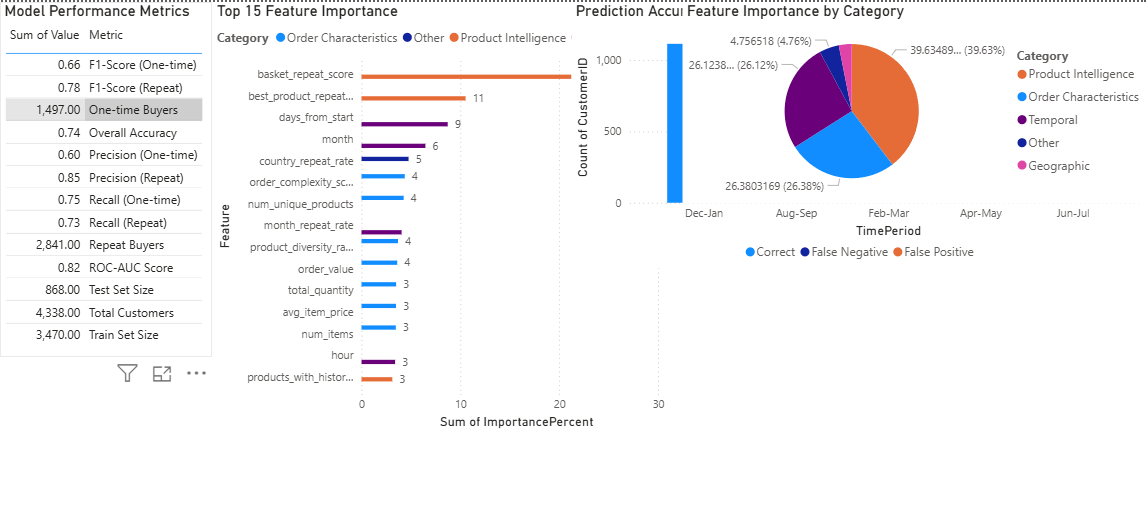

The dashboard page shown, as its layout file describes it:
{"tool":"powerbi","page":{"name":"Model Performance","canvas":[1280,720],"ordinal":2},"visuals":[{"type":"clusteredBarChart","title":"Top 15 Feature Importance","fields":{"Category":["powerbi_feature_importance.Feature"],"Y":["Sum(powerbi_feature_importance.ImportancePercent)"],"Series":["powerbi_feature_importance.Category"]},"box":[236,0,522.8,478.9],"z":0},{"type":"clusteredColumnChart","title":"Prediction Accuracy Over Time","fields":{"Category":["powerbi_customers.TimePeriod"],"Y":["CountNonNull(powerbi_customers.CustomerID)"],"Series":["powerbi_customers.PredictionType"]},"box":[635.3,0,644.9,296.4],"z":1000},{"type":"tableEx","title":"Model Performance Metrics","fields":{"Values":["Sum(powerbi_metrics.Value)","powerbi_metrics.Metric"]},"box":[0,0,236,393.8],"z":2000},{"type":"pieChart","title":"Feature Importance by Category","fields":{"Category":["powerbi_feature_importance.Category"],"Y":["Sum(powerbi_feature_importance.ImportancePercent)"]},"box":[758.8,0,521.4,223.7],"z":3000}]}

Visuals, with their boxes in screenshot pixels (x1, y1, x2, y2):
"Top 15 Feature Importance" clusteredBarChart: [303, 0, 664, 331]
"Prediction Accuracy Over Time" clusteredColumnChart: [579, 0, 1024, 205]
"Model Performance Metrics" tableEx: [140, 0, 303, 272]
"Feature Importance by Category" pieChart: [664, 0, 1024, 154]
